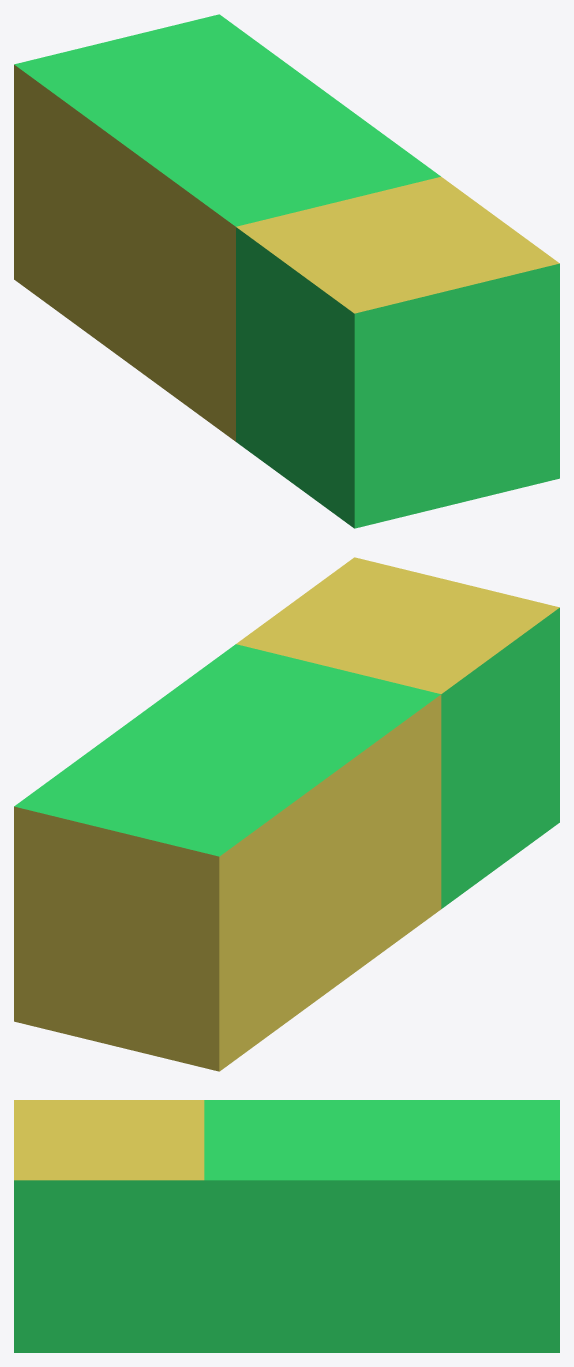
Rendered from basic_cube.glb.
3 renders of one model, top to bottom at view 1: azimuth 30°, elevation 25°; view 2: azimuth 150°, elevation 25°; view 3: azimuth 270°, elevation 25°, orthographic. The views are drawn at different scales.
Parts seen in each view (by area): view 1: Cube; view 2: Cube; view 3: Cube.
Part boxes in pixels (x1,y1,x2,y2): Cube: (14, 14, 559, 528); Cube: (14, 557, 559, 1071); Cube: (14, 1100, 559, 1352).
Bounding box in the file's own units: 2 × 2 × 5.74.
